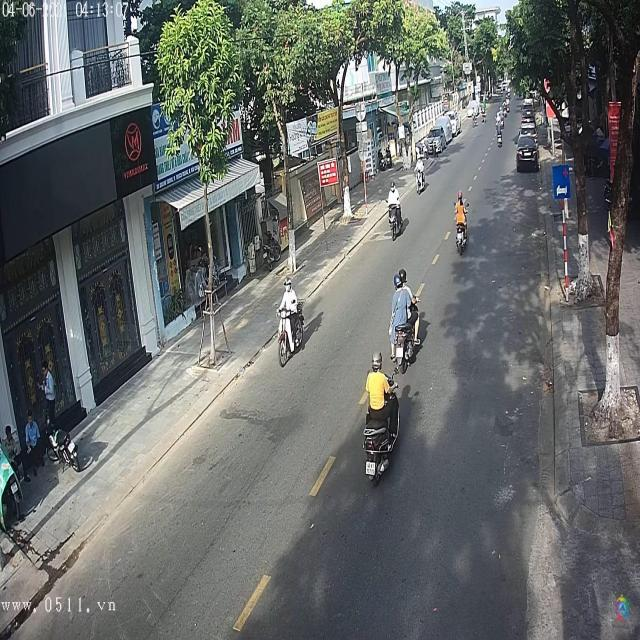car: (518, 136, 541, 174)
motorcycle: (362, 368, 405, 482), (392, 295, 426, 373), (276, 301, 308, 368), (388, 205, 409, 241), (455, 220, 467, 253)
